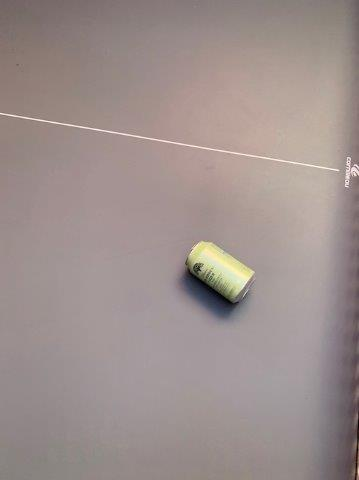kaleng: (185, 240, 255, 303)
